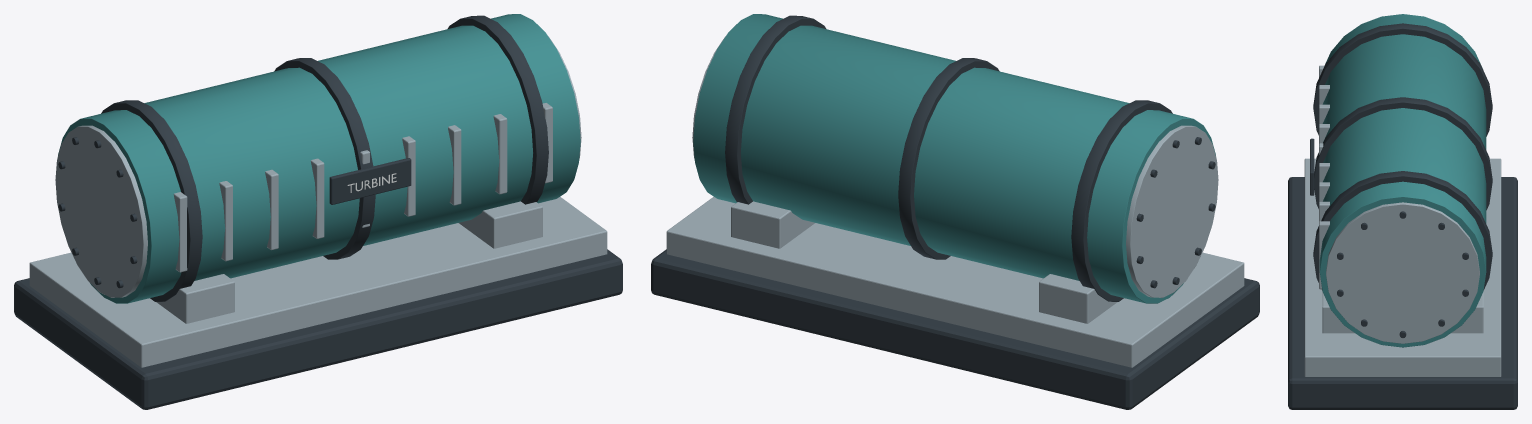
File: turbine.glb
3 views of the same model, side by side, from view 1: azimuth 30°, elevation 25°; view 2: azimuth 150°, elevation 25°; view 3: azimuth 270°, elevation 25° (orthographic). The views are drawn at different scales.
Parts seen in each view (by area): view 1: Outer shell, Machine base, Concrete plinth, End plate, Casing band, Casing band.002, Casing band.001, Foot.001, Foot, Nameplate, Cooling rib.007, Cooling rib.003 (+5 smaller); view 2: Outer shell, Machine base, Concrete plinth, End plate, Casing band.001, Casing band, Casing band.002, Foot.001, Foot; view 3: Outer shell, End plate.001, Concrete plinth, Machine base, Casing band, Casing band.001, Casing band.002, Foot.001, Nameplate, Cooling rib.008.
Part boxes in pixels (x1=…): Outer shell: x1=58, y1=14, x2=580, y2=303; Machine base: x1=29, y1=197, x2=607, y2=367; Concrete plinth: x1=14, y1=249, x2=622, y2=409; End plate: x1=55, y1=125, x2=147, y2=297; Casing band: x1=101, y1=100, x2=202, y2=301; Casing band.002: x1=447, y1=15, x2=548, y2=204; Casing band.001: x1=274, y1=58, x2=375, y2=259; Foot.001: x1=459, y1=201, x2=542, y2=248; Foot: x1=156, y1=274, x2=234, y2=323; Nameplate: x1=329, y1=158, x2=411, y2=204; Cooling rib.007: x1=493, y1=114, x2=507, y2=194; Cooling rib.003: x1=310, y1=158, x2=324, y2=238; Outer shell: x1=693, y1=14, x2=1215, y2=303; Machine base: x1=666, y1=197, x2=1244, y2=367; Concrete plinth: x1=651, y1=249, x2=1259, y2=409; End plate: x1=1126, y1=125, x2=1218, y2=297; Casing band.001: x1=898, y1=58, x2=999, y2=259; Casing band: x1=1071, y1=100, x2=1172, y2=301; Casing band.002: x1=725, y1=15, x2=826, y2=204; Foot.001: x1=731, y1=201, x2=814, y2=248; Foot: x1=1039, y1=274, x2=1117, y2=323; Outer shell: x1=1319, y1=14, x2=1486, y2=347; End plate.001: x1=1326, y1=202, x2=1479, y2=343; Concrete plinth: x1=1288, y1=177, x2=1517, y2=409; Machine base: x1=1304, y1=158, x2=1501, y2=376; Casing band: x1=1313, y1=23, x2=1492, y2=136; Casing band.001: x1=1314, y1=97, x2=1492, y2=210; Casing band.002: x1=1313, y1=171, x2=1492, y2=289; Foot.001: x1=1322, y1=291, x2=1483, y2=333; Nameplate: x1=1310, y1=138, x2=1314, y2=195; Cooling rib.008: x1=1319, y1=221, x2=1329, y2=289.
Bounding box in the file's own units: 3.9 × 1.86 × 1.85.
